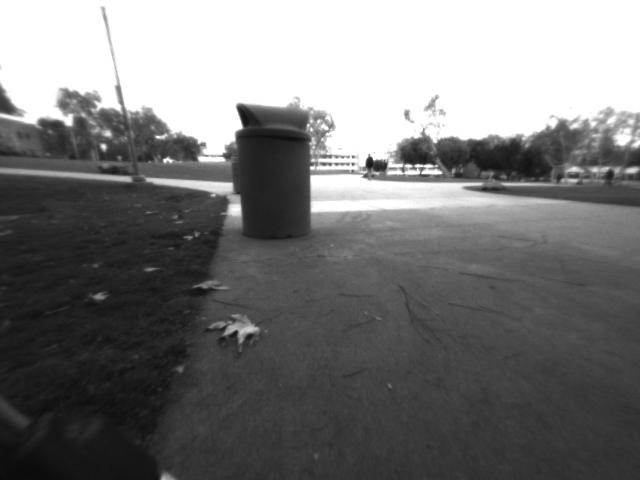trashcan: (233, 98, 319, 243)
